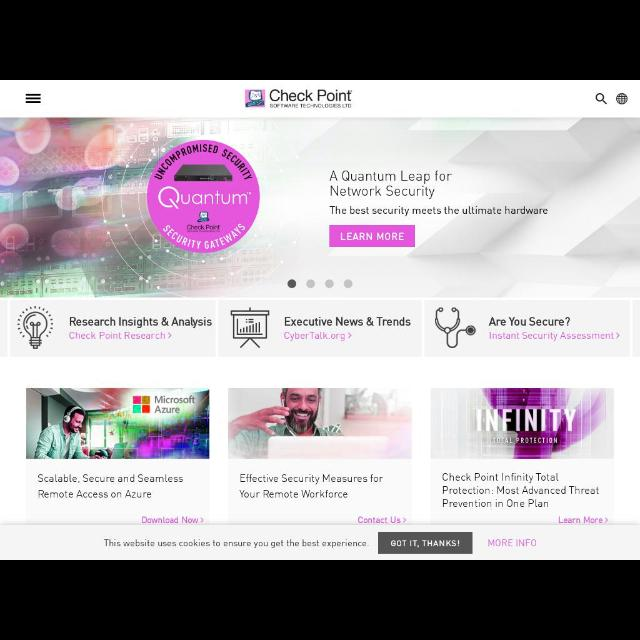backgroundimage: (1, 118, 639, 296)
icon: (434, 307, 476, 349), (230, 307, 270, 348), (18, 306, 54, 348), (595, 93, 607, 105), (26, 94, 40, 104), (616, 94, 628, 105), (403, 516, 407, 524), (604, 516, 608, 524), (616, 332, 620, 338), (348, 332, 352, 338), (168, 332, 172, 338), (200, 517, 203, 523)
image: (27, 388, 210, 459), (228, 389, 412, 459), (147, 140, 259, 254), (432, 389, 614, 459), (245, 90, 353, 108)
pageindicator: (288, 278, 352, 290)
text: (104, 538, 370, 548), (328, 206, 548, 217), (70, 316, 212, 328), (240, 473, 382, 485), (331, 184, 435, 200), (330, 170, 452, 182), (37, 474, 183, 484), (285, 316, 411, 326), (444, 487, 600, 495), (490, 332, 614, 342), (443, 472, 559, 482), (444, 499, 548, 509), (38, 489, 152, 498), (238, 489, 348, 498), (70, 332, 166, 341), (489, 317, 571, 327), (340, 232, 404, 242), (285, 332, 345, 342), (390, 540, 460, 548), (488, 538, 538, 548), (142, 516, 198, 524), (358, 515, 402, 525), (558, 516, 602, 524)
textbutton: (378, 532, 472, 554), (329, 226, 415, 247)
toolbar: (1, 81, 640, 117)
